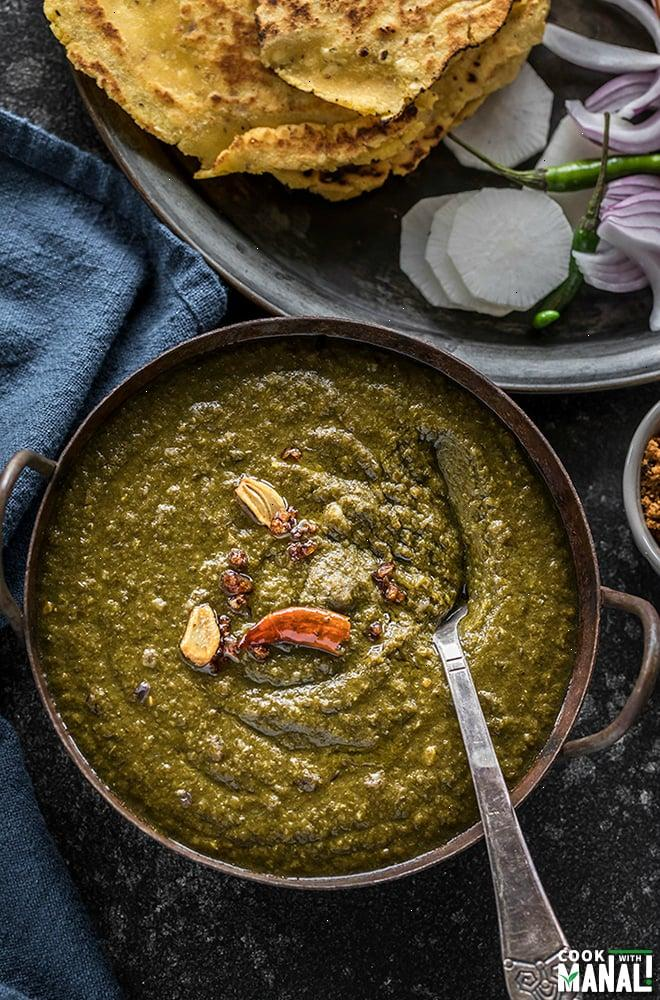saag: (34, 340, 581, 878)
